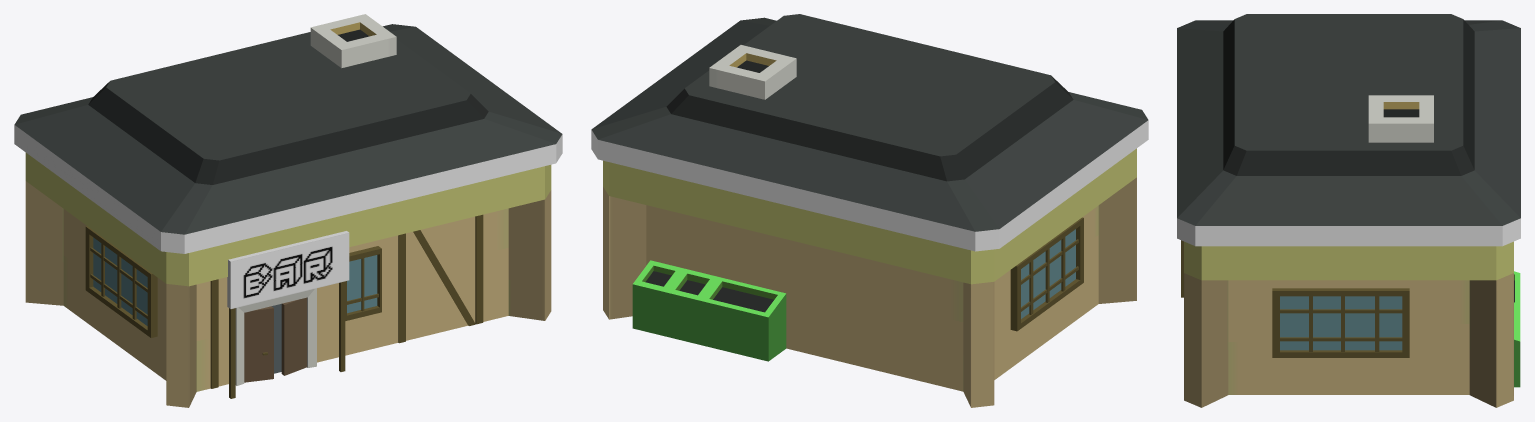
Rendered from Bar.fbx.
The picture shows the model from 3 angles, left to right: view 1: azimuth 30°, elevation 25°; view 2: azimuth 150°, elevation 25°; view 3: azimuth 270°, elevation 25°; orthographic projection. The views are drawn at different scales.
Visible parts, largest first — view 1: Bar; view 2: Bar; view 3: Bar.
Boxes of the visible parts, <box> form: Bar: <box>14,14,562,407</box>; Bar: <box>591,14,1148,407</box>; Bar: <box>1177,14,1520,407</box>.
Size of the model in its own units: 4.01 by 2.24 by 2.84.
